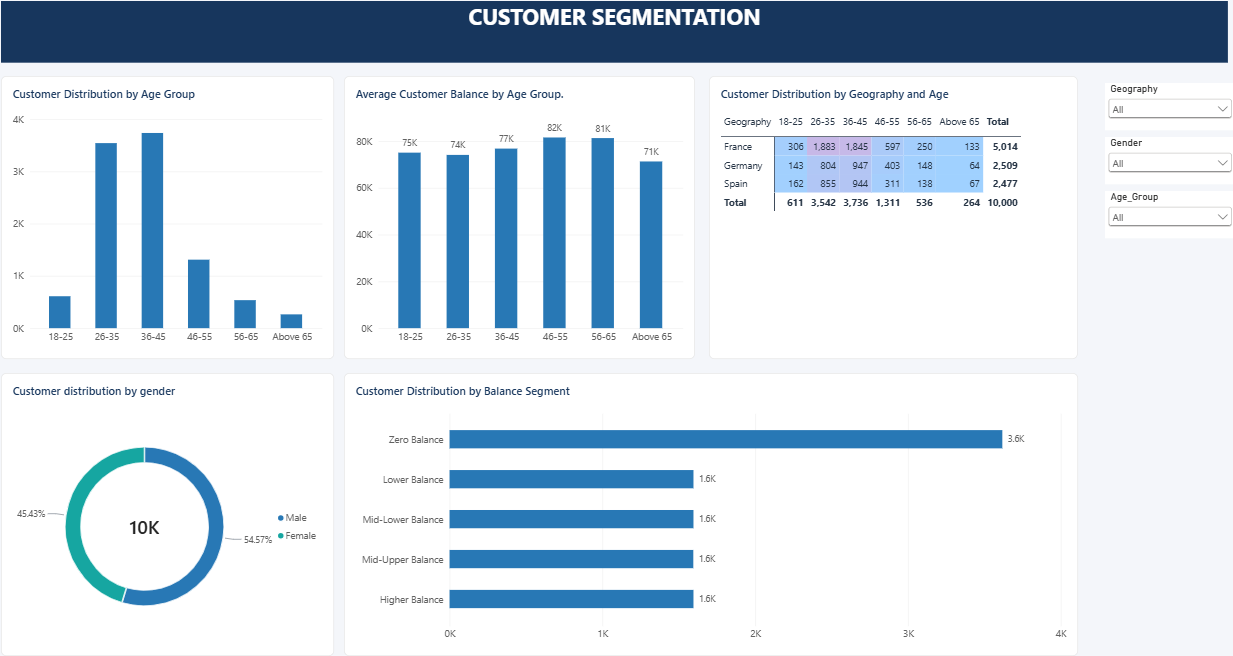

The page's visual inventory and layout, read from the dashboard file:
{"tool":"powerbi","page":{"name":"Customer Segmentation","canvas":[1920,1080],"ordinal":1},"visuals":[{"type":"clusteredColumnChart","title":"Customer Distribution by Age Group","fields":{"Category":["CustomerData.Age_Group"],"Y":["CustomerData.Total Customers"]},"box":[67.1,126.9,485.8,412.9],"z":0},{"type":"clusteredColumnChart","title":"Average Customer Balance by Age Group.","fields":{"Category":["CustomerData.Age_Group"],"Y":["CustomerData.Average Balance"]},"box":[567.5,126.9,512.1,412.9],"z":1000},{"type":"clusteredBarChart","title":"Customer Distribution by Balance Segment","fields":{"Category":["Dim_BalanceSegment.Balance_Segment"],"Y":["CustomerData.Total Customers"]},"box":[567.5,560.2,1070.9,412.9],"z":2000},{"type":"donutChart","title":"Customer distribution by gender","fields":{"Category":["CustomerData.Gender"],"Y":["CustomerData.Total Customers"]},"box":[67.1,560.2,485.8,412.9],"z":3000},{"type":"pivotTable","title":"Customer Distribution by Geography and Age","fields":{"Columns":["CustomerData.Age_Group"],"Rows":["CustomerData.Geography"],"Values":["CustomerData.Total Customers"]},"box":[1100.1,126.9,538.4,412.9],"z":4000},{"type":"slicer","fields":{"Values":["CustomerData.Geography"]},"box":[1677.8,137.1,189.7,68.6],"z":5000},{"type":"slicer","fields":{"Values":["CustomerData.Gender"]},"box":[1677.8,215.9,189.7,68.6],"z":6000},{"type":"slicer","fields":{"Values":["CustomerData.Age_Group"]},"box":[1677.8,294.7,189.7,68.6],"z":7000},{"type":"textbox","box":[67.1,17.5,1790.2,90.5],"z":8000}]}

Visuals, with their boxes on the page's 1920x1080 design canvas (x1, y1, x2, y2). These are canvas units, not pixel positions in the 1233x656 screenshot, which may show the page scaled, cropped or inside an application window:
"Customer Distribution by Age Group" clusteredColumnChart: (x1=67, y1=127, x2=553, y2=540)
"Average Customer Balance by Age Group." clusteredColumnChart: (x1=568, y1=127, x2=1080, y2=540)
"Customer Distribution by Balance Segment" clusteredBarChart: (x1=568, y1=560, x2=1638, y2=973)
"Customer distribution by gender" donutChart: (x1=67, y1=560, x2=553, y2=973)
"Customer Distribution by Geography and Age" pivotTable: (x1=1100, y1=127, x2=1638, y2=540)
slicer - CustomerData.Geography: (x1=1678, y1=137, x2=1868, y2=206)
slicer - CustomerData.Gender: (x1=1678, y1=216, x2=1868, y2=284)
slicer - CustomerData.Age_Group: (x1=1678, y1=295, x2=1868, y2=363)
textbox: (x1=67, y1=18, x2=1857, y2=108)
